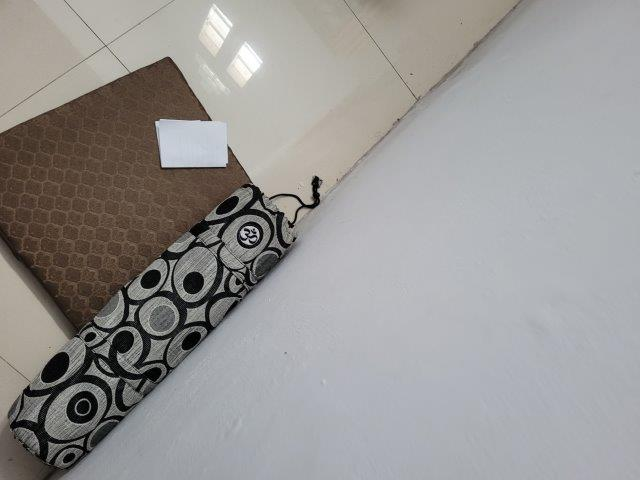kertas: (153, 120, 232, 168)
